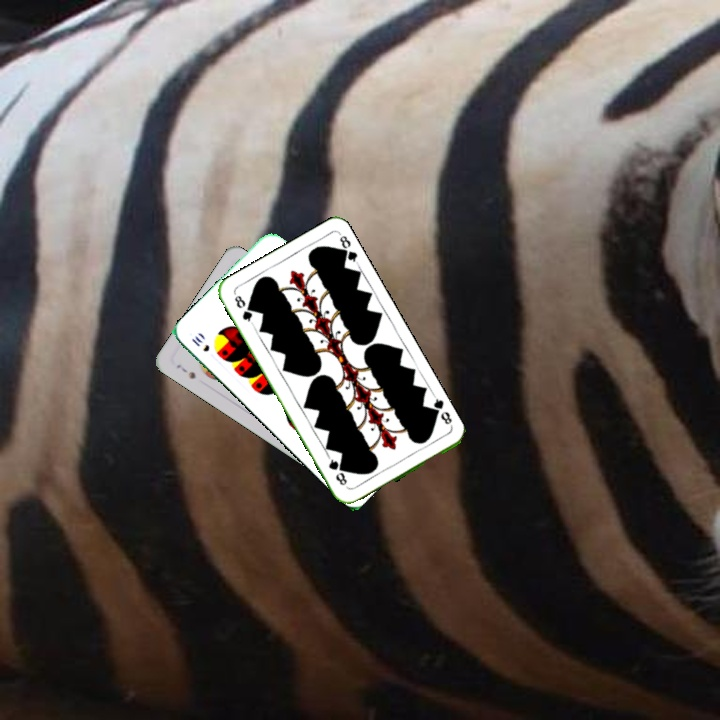G8: (426, 393, 456, 430), (230, 291, 256, 327)
S10: (187, 332, 212, 354)
S7: (172, 360, 198, 382)
